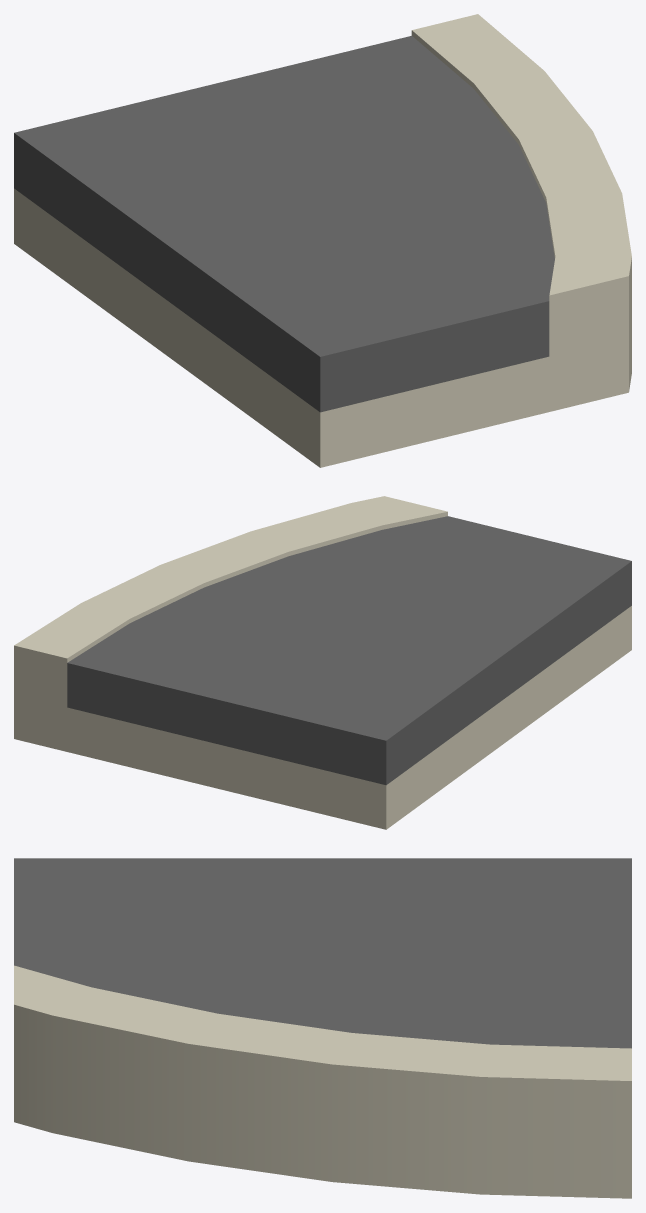
File: roadTile_114.fbx
3 views of the same model, one above another, from view 1: azimuth 30°, elevation 25°; view 2: azimuth 150°, elevation 25°; view 3: azimuth 270°, elevation 25° (orthographic). The views are drawn at different scales.
Parts seen in each view (by area): view 1: roadTile_114; view 2: roadTile_114; view 3: roadTile_114.
Boxes of the visible parts, bbox=[...] form: roadTile_114: bbox=[14, 14, 631, 467]; roadTile_114: bbox=[14, 496, 631, 829]; roadTile_114: bbox=[14, 858, 631, 1198].
Bounding box in the file's own units: 103 × 24.8 × 118.
